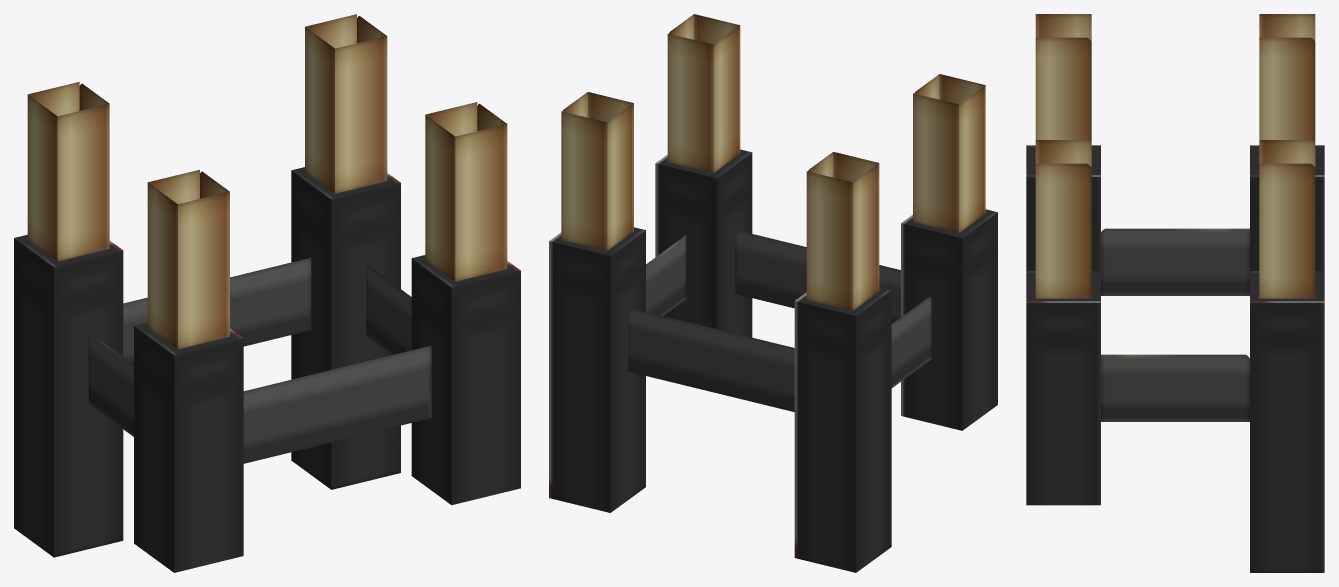
Rendered from atlas_pivot.obj.
3 renders of one model, left to right at view 1: azimuth 30°, elevation 25°; view 2: azimuth 150°, elevation 25°; view 3: azimuth 270°, elevation 25°, orthographic. The views are drawn at different scales.
Parts seen in each view (by area): view 1: atlas_pivot; view 2: atlas_pivot; view 3: atlas_pivot.
Boxes of the visible parts, x1,y1,x2,y2 form: atlas_pivot: [14, 14, 520, 572]; atlas_pivot: [549, 14, 997, 572]; atlas_pivot: [1026, 14, 1324, 572].
Size of the model in its own units: 2.5 by 3 by 2.
